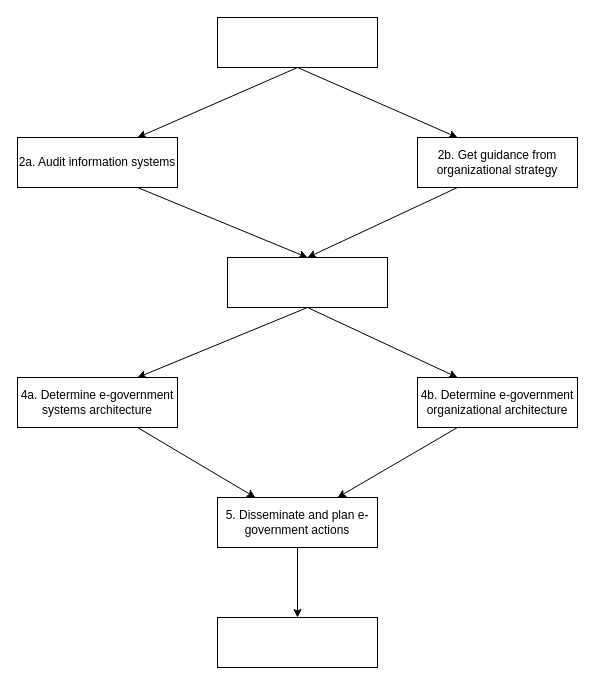
Image size: 595x685. Some labels were removed from this diagram. The centre of each missing label's shape, as x and y in pixels:
1. Create e-government planning structures / roles: the point at 297,42
3. Set e-government objectives and principles: the point at 307,282
6. Manage, evolve and review e-government strategy: the point at 297,642
